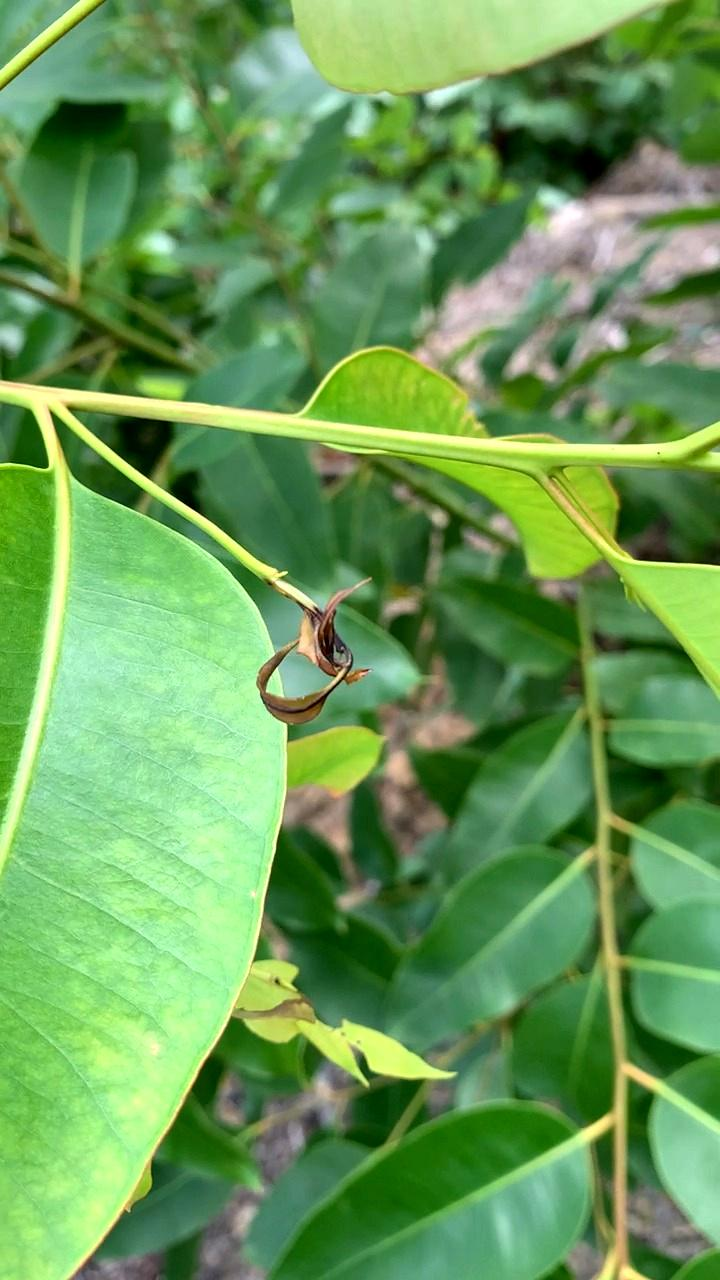Helopeltis-Withered Sprout: (243, 583, 385, 723)
